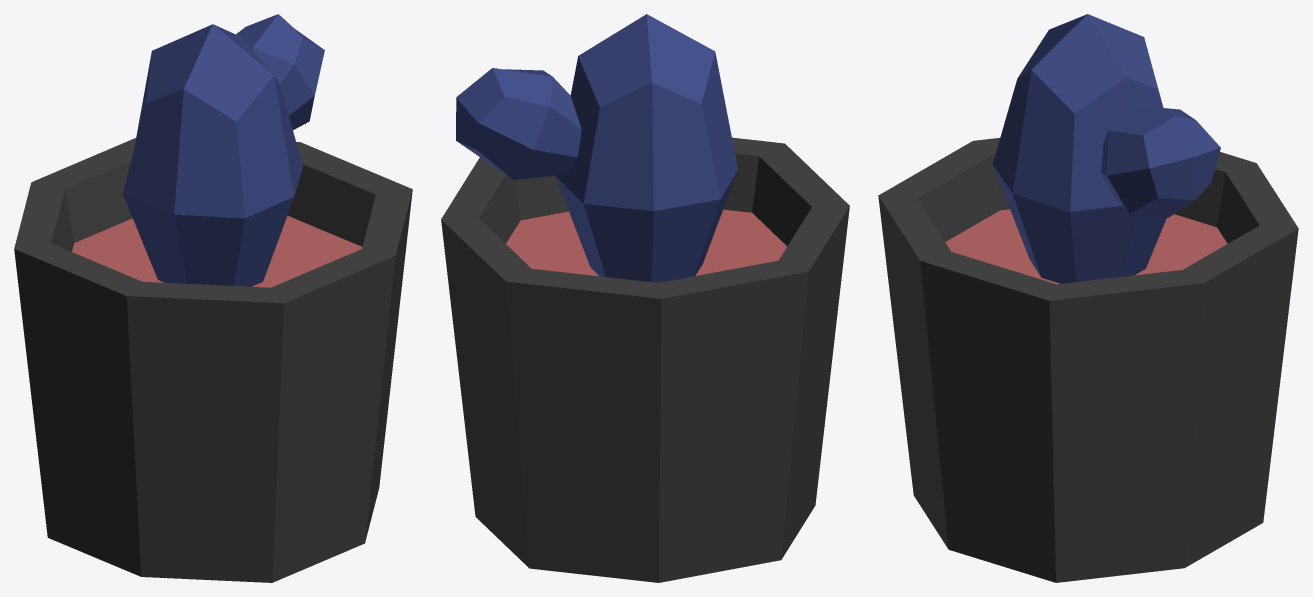
Rendered from Kitchen_Plant3.fbx.
3 renders of one model, left to right at view 1: azimuth 30°, elevation 25°; view 2: azimuth 150°, elevation 25°; view 3: azimuth 270°, elevation 25°, orthographic.
Parts seen in each view (by area): view 1: Kitchen_Plant3; view 2: Kitchen_Plant3; view 3: Kitchen_Plant3.
Part boxes in pixels (x1,y1,x2,y2): Kitchen_Plant3: (14,14,412,582); Kitchen_Plant3: (441,14,849,582); Kitchen_Plant3: (878,14,1298,582).
Size of the model in its own units: 15.97 by 20.74 by 15.97.
